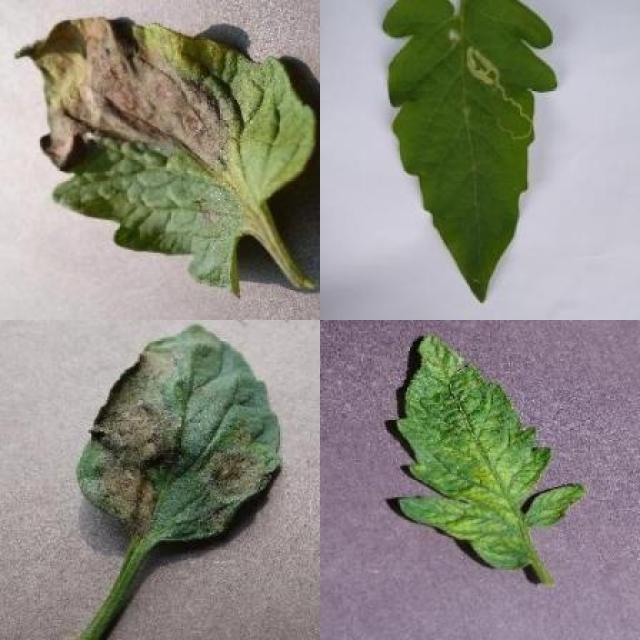Late Blight: (15, 11, 318, 300), (75, 323, 285, 543)
Leaf Miner: (381, 0, 560, 303)
Mosaic Virus: (391, 328, 586, 569)
